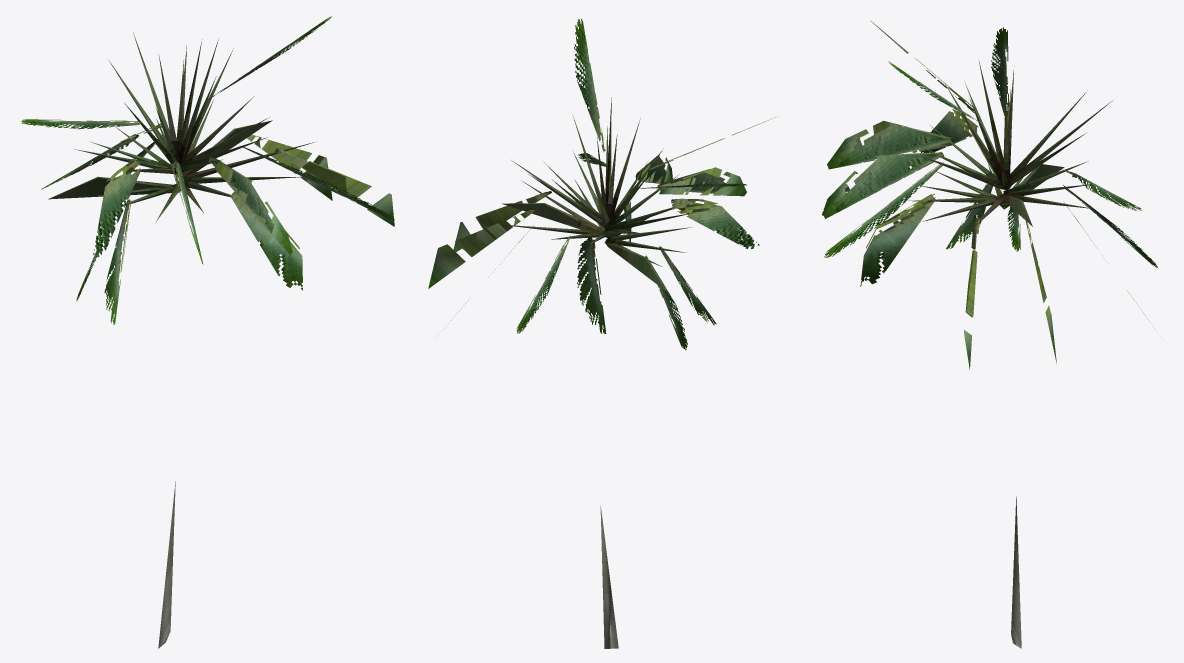
Rendered from palm-young-b.lod2.glb.
The picture shows the model from 3 angles, left to right: view 1: azimuth 30°, elevation 25°; view 2: azimuth 150°, elevation 25°; view 3: azimuth 270°, elevation 25°; orthographic projection. The views are drawn at different scales.
Parts seen in each view (by area): view 1: SM_MZRa_Palm_B083_MI_MZRa_Palm_B08a_0, SM_MZRa_Palm_B083_MI_MZRa_Palm_B08b_0; view 2: SM_MZRa_Palm_B083_MI_MZRa_Palm_B08a_0, SM_MZRa_Palm_B083_MI_MZRa_Palm_B08b_0; view 3: SM_MZRa_Palm_B083_MI_MZRa_Palm_B08a_0, SM_MZRa_Palm_B083_MI_MZRa_Palm_B08b_0.
Part boxes in pixels (x1,y1,x2,y2): SM_MZRa_Palm_B083_MI_MZRa_Palm_B08a_0: (20, 16, 394, 324); SM_MZRa_Palm_B083_MI_MZRa_Palm_B08b_0: (48, 32, 314, 648); SM_MZRa_Palm_B083_MI_MZRa_Palm_B08a_0: (428, 19, 775, 350); SM_MZRa_Palm_B083_MI_MZRa_Palm_B08b_0: (500, 97, 698, 648); SM_MZRa_Palm_B083_MI_MZRa_Palm_B08a_0: (822, 20, 1157, 369); SM_MZRa_Palm_B083_MI_MZRa_Palm_B08b_0: (908, 61, 1112, 648).
Bounding box in the file's own units: 2.64 × 4.6 × 2.31.
2 materials, 2 textured.
